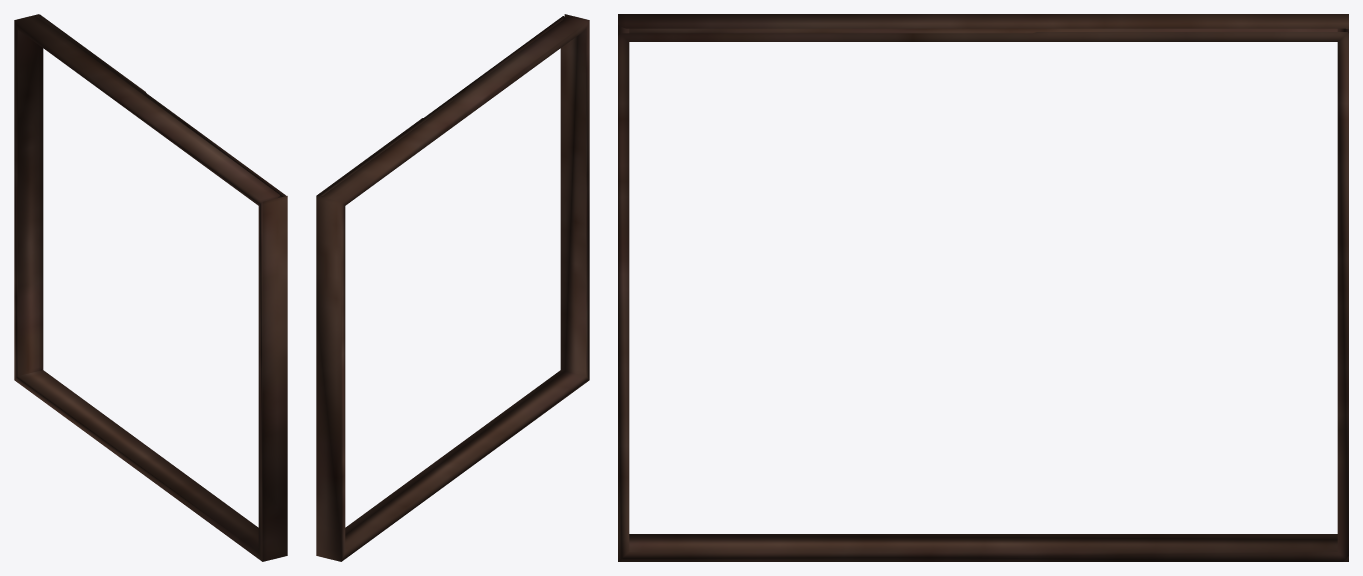
File: window.fbx
The picture shows the model from 3 angles, left to right: view 1: azimuth 30°, elevation 25°; view 2: azimuth 150°, elevation 25°; view 3: azimuth 270°, elevation 25°; orthographic projection. The views are drawn at different scales.
Visible parts, largest first — view 1: window; view 2: window; view 3: window.
Part boxes in pixels (bbox=[...]): window: bbox=[14, 14, 287, 561]; window: bbox=[316, 14, 589, 561]; window: bbox=[618, 14, 1348, 561].
Size of the model in its own units: 8.77 by 120 by 150.
1 material, 1 textured.
